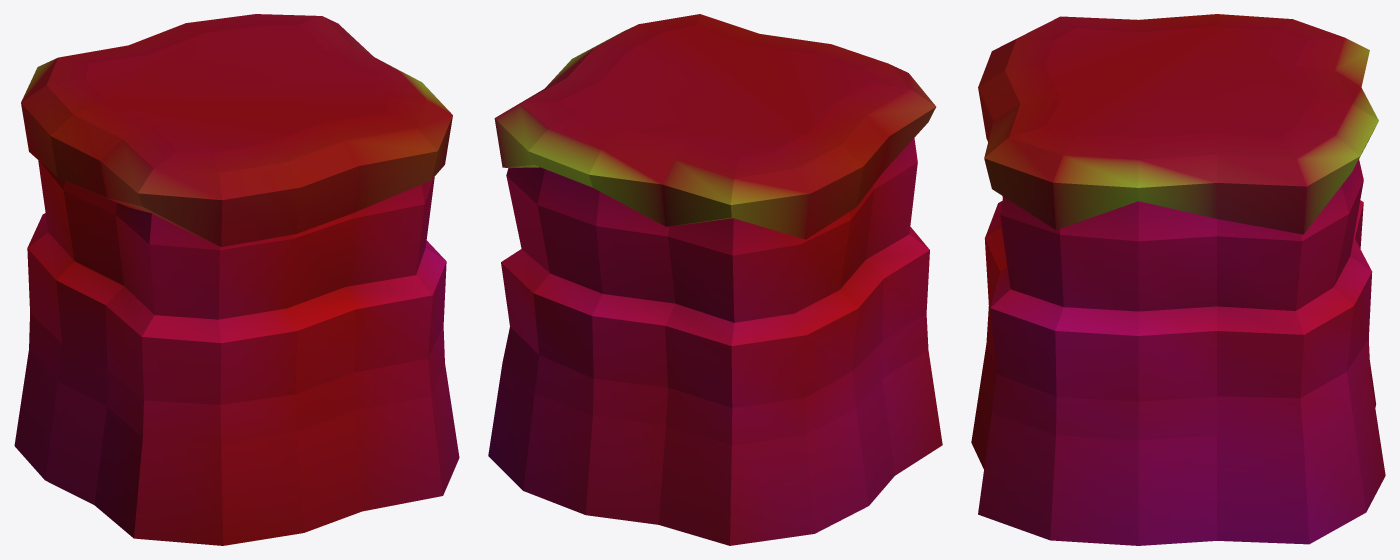
Rendered from Cliff_Module_A.fbx.
3 renders of one model, left to right at view 1: azimuth 30°, elevation 25°; view 2: azimuth 150°, elevation 25°; view 3: azimuth 270°, elevation 25°, orthographic. The views are drawn at different scales.
Visible parts, largest first — view 1: Cliff_Module_A; view 2: Cliff_Module_A; view 3: Cliff_Module_A.
Boxes of the visible parts, bbox=[...] form: Cliff_Module_A: bbox=[14, 14, 459, 545]; Cliff_Module_A: bbox=[488, 14, 942, 545]; Cliff_Module_A: bbox=[971, 14, 1385, 545].
Bounding box in the file's own units: 2.45 × 2.47 × 2.46.
